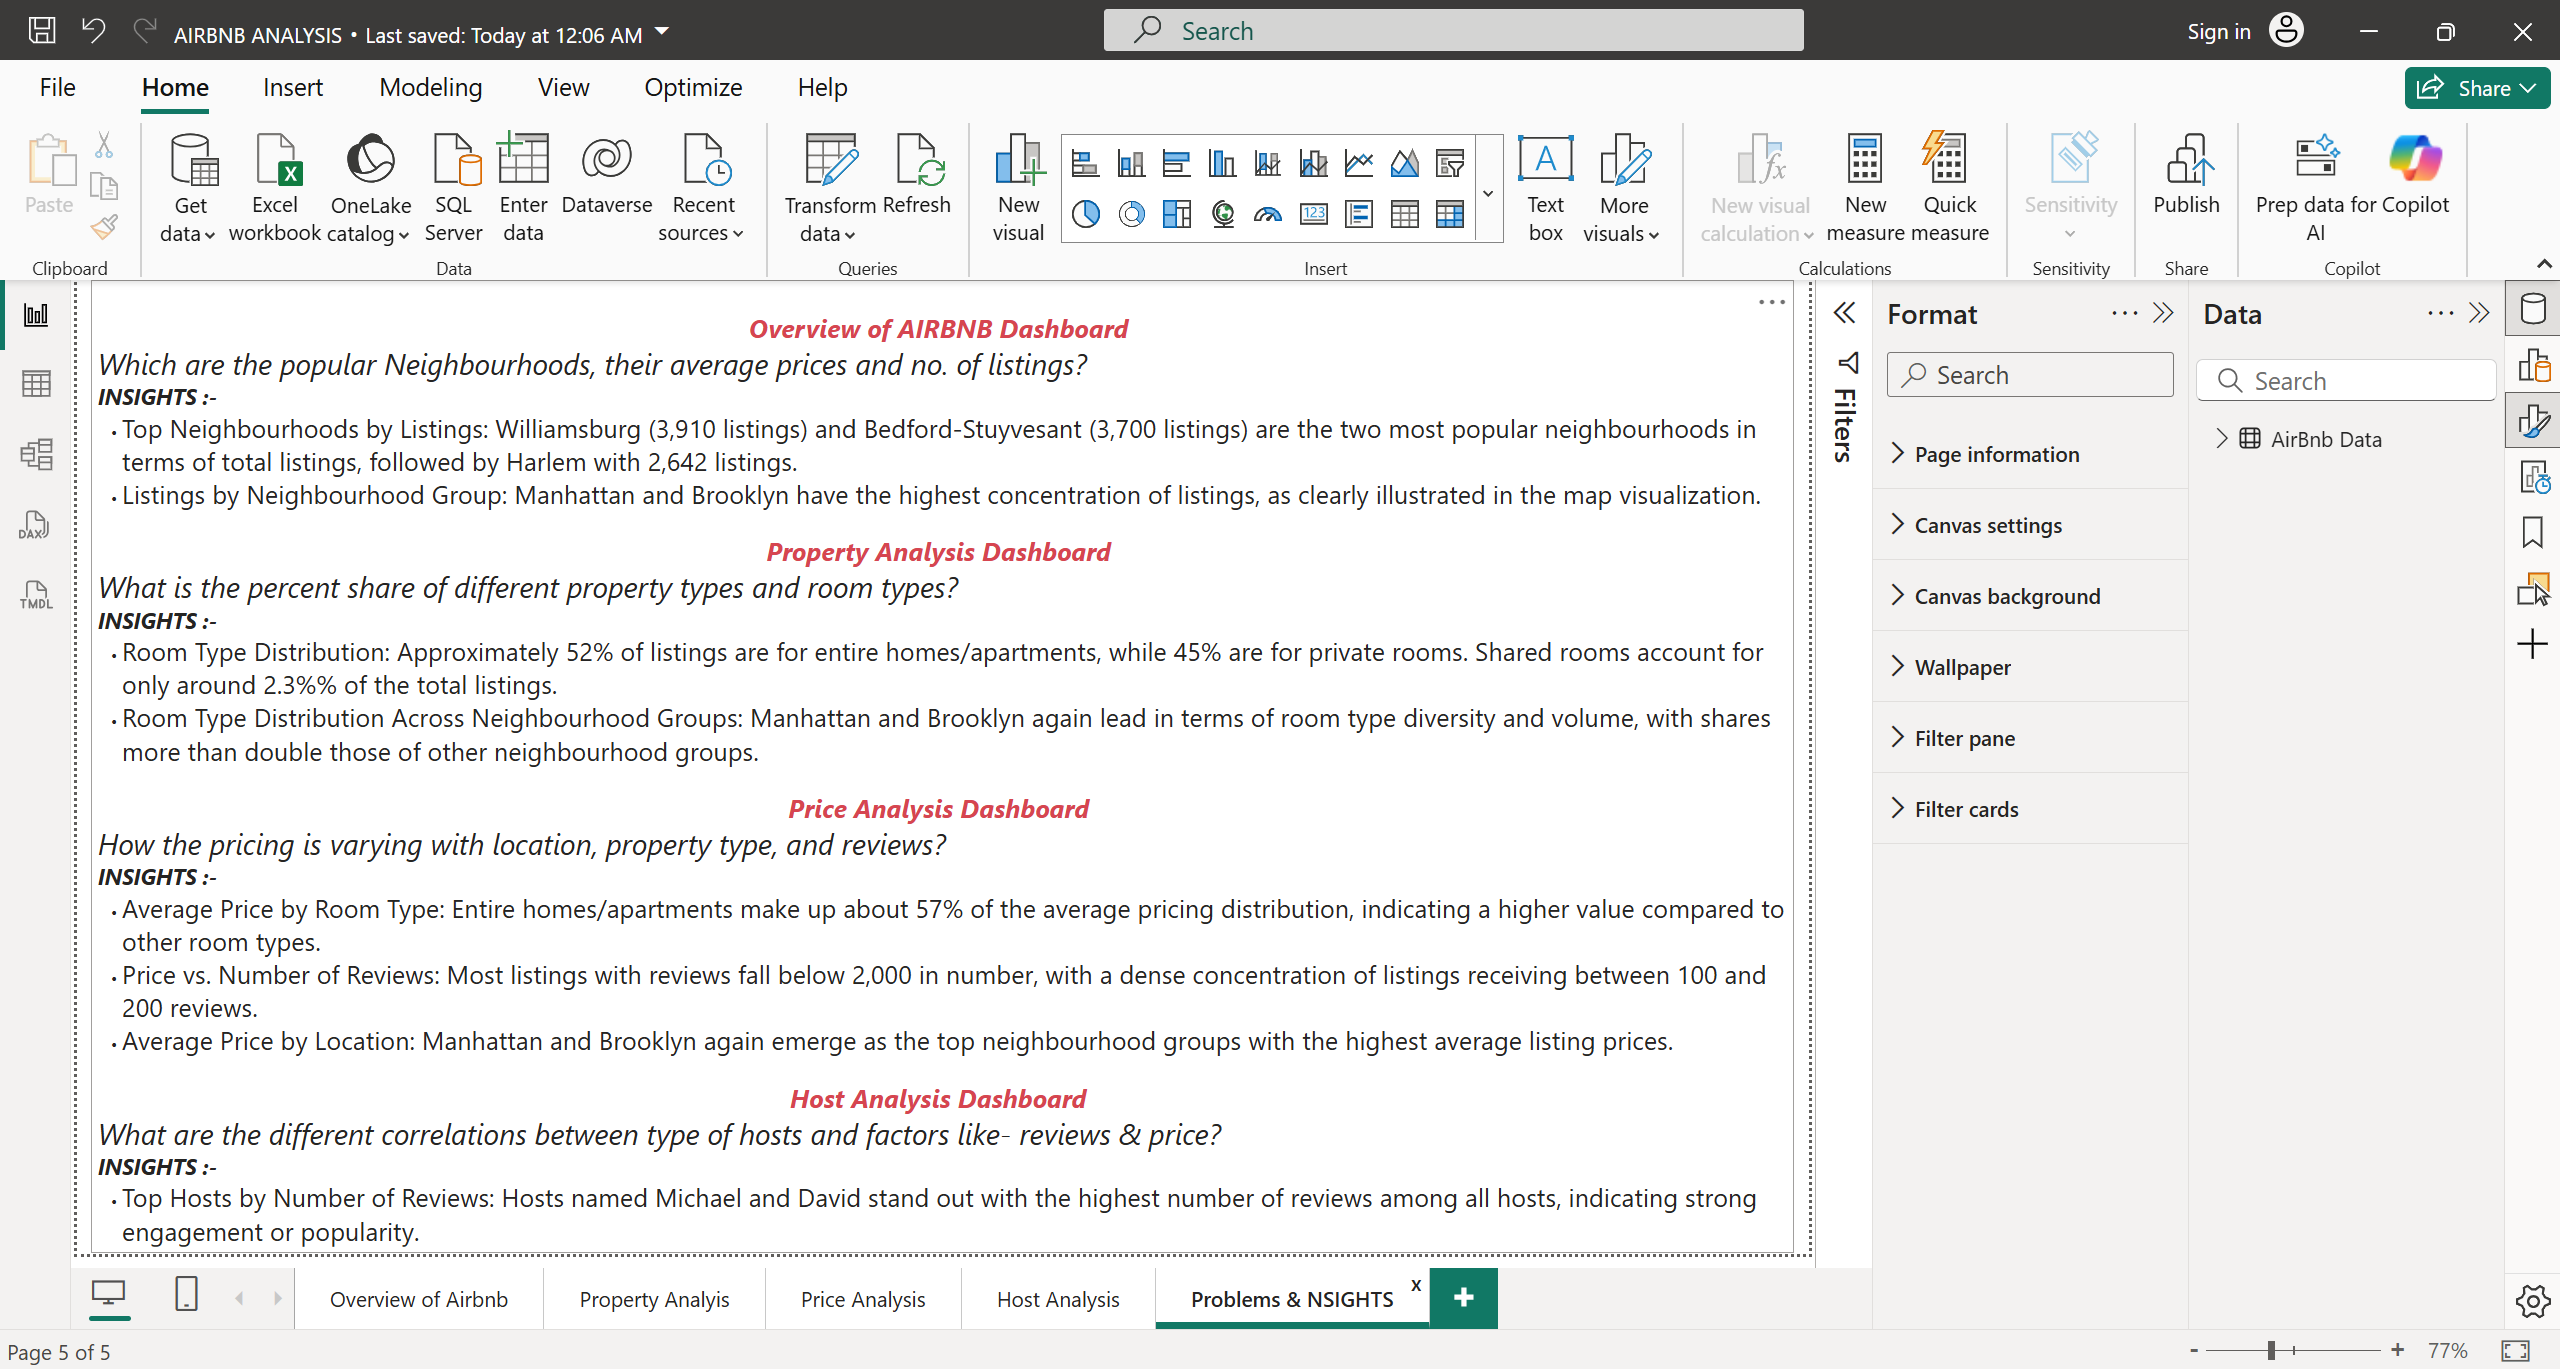

The dashboard page shown, as its layout file describes it:
{"tool":"powerbi","page":{"name":"Problem Areas","canvas":[1280,720],"ordinal":4},"visuals":[{"type":"textbox","box":[11.6,56.9,921.3,377.8],"z":0}]}

Visuals, with their boxes on the page's 1280x720 design canvas (x1, y1, x2, y2). These are canvas units, not pixel positions in the 2560x1369 screenshot, which may show the page scaled, cropped or inside an application window:
textbox: 12/57/933/435
